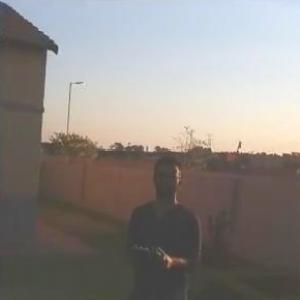follow: (119, 153, 205, 299)
